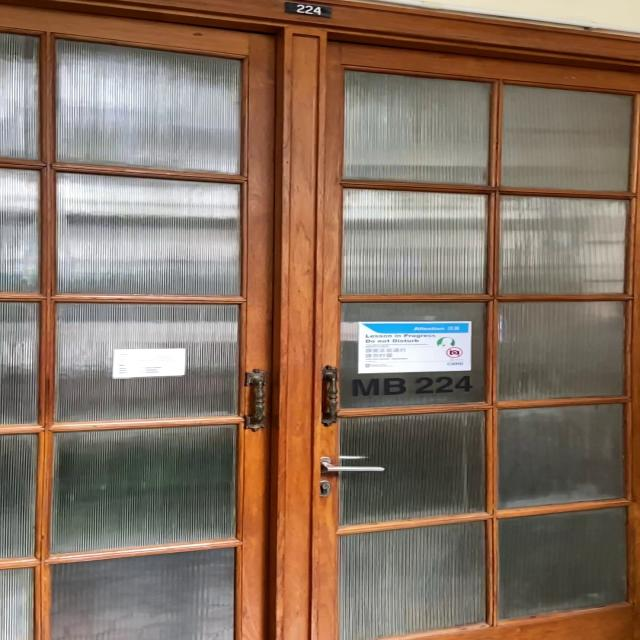room224: (282, 1, 331, 20)
room224Window: (345, 374, 475, 399)
